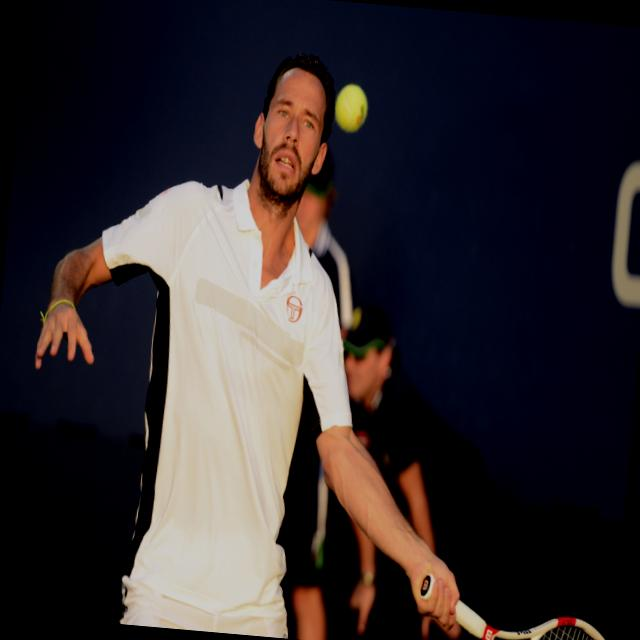Tennis ball: (332, 79, 368, 132)
